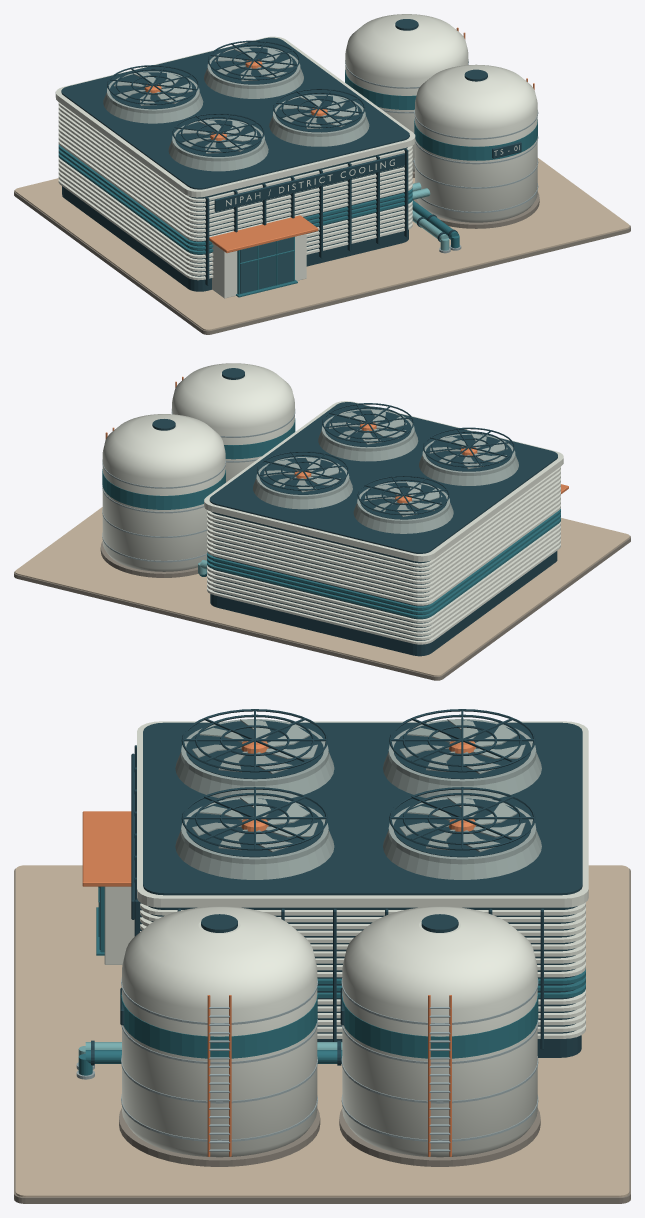
3 views of the same model, one above another, from view 1: azimuth 30°, elevation 25°; view 2: azimuth 150°, elevation 25°; view 3: azimuth 270°, elevation 25° (orthographic). The views are drawn at different scales.
Visible parts, largest first — view 1: Chiller Hall, Thermal Storage, Pipe Gallery, Axial Fan Deck; view 2: Chiller Hall, Thermal Storage, Pipe Gallery, Axial Fan Deck; view 3: Thermal Storage, Pipe Gallery, Chiller Hall, Axial Fan Deck.
Part boxes in pixels (x1,y1,x2,y2): Chiller Hall: (55,36,415,298); Thermal Storage: (345,14,539,228); Pipe Gallery: (14,158,630,334); Axial Fan Deck: (103,40,369,171); Chiller Hall: (204,401,568,656); Thermal Storage: (100,363,295,577); Pipe Gallery: (14,507,630,680); Axial Fan Deck: (253,403,518,533); Thermal Storage: (119,906,540,1166); Pipe Gallery: (14,865,630,1203); Chiller Hall: (82,721,588,1057); Axial Fan Deck: (175,709,541,879).
Size of the model in its own units: 28 by 8.27 by 22.
